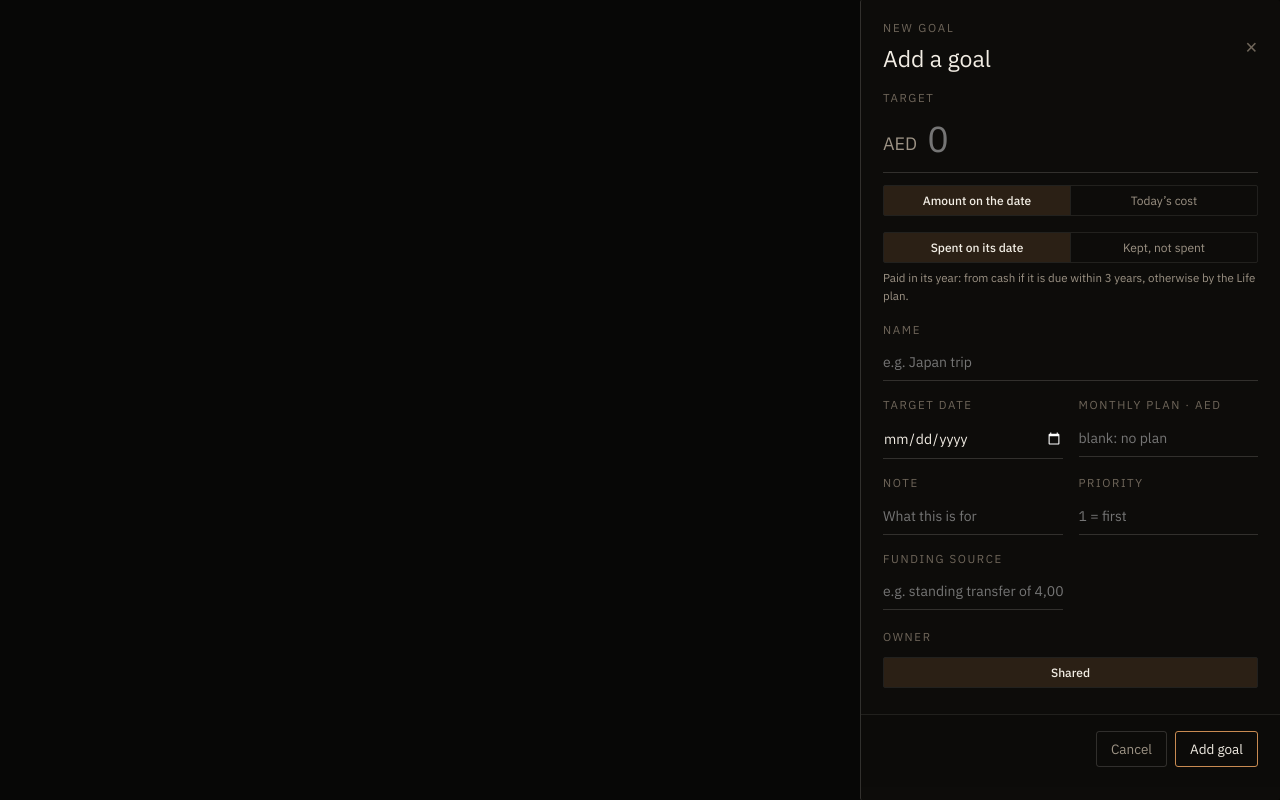
Test: GoalEditor: today's cost, its rate and a priority › keeps no rate for an amount on the date, and refuses a priority of zero
The image size is (1280, 800).
Type "5000" into the number field named "Target, AED" at (1093, 138), box [927,115,1258,162]
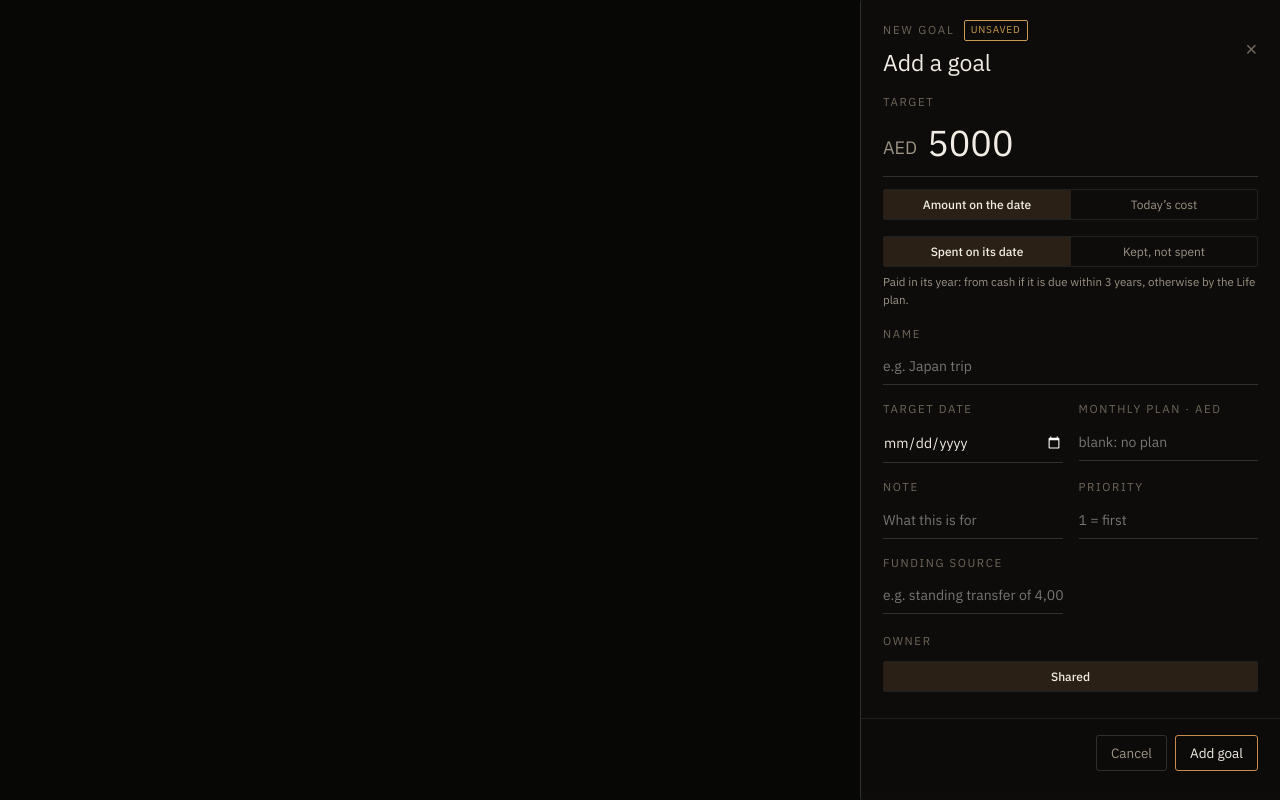
Type "Trip" into the field labelled "Name" at (1070, 367), box [883,348,1258,385]
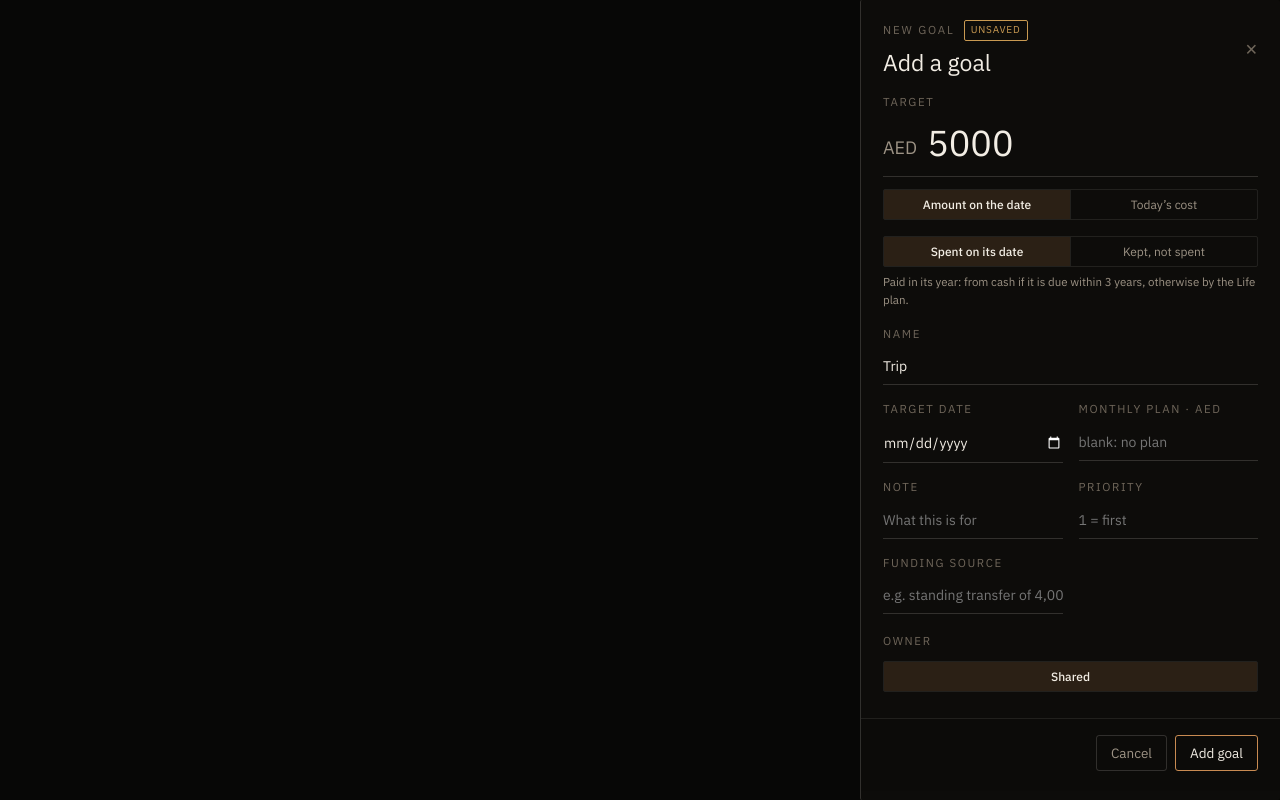
Type "0" into the number field labelled "Priority" at (1168, 520), box [1078,502,1258,539]
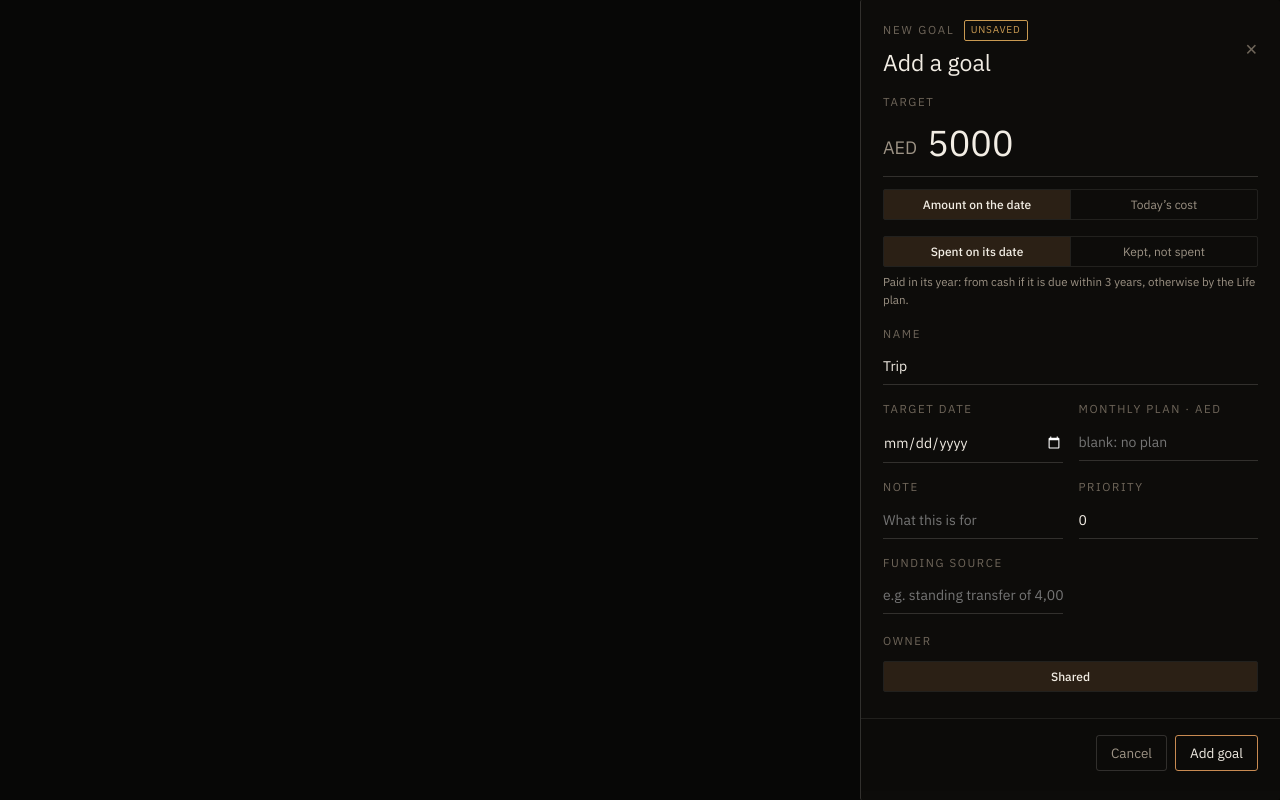
Click the button "Add goal" at (1216, 752), box [1175,734,1258,770]
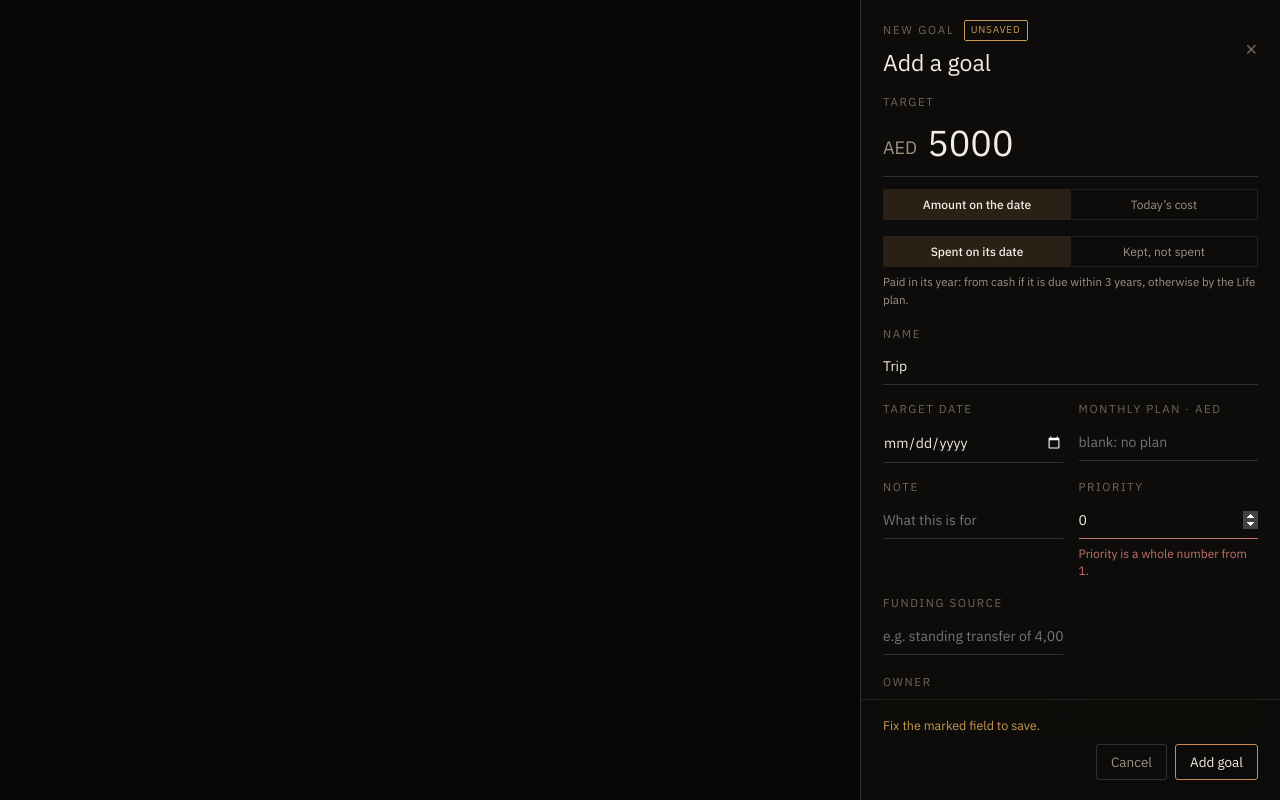
Check: the text "Priority is a whole number from 1." is shown, box [1078,545,1258,579]
